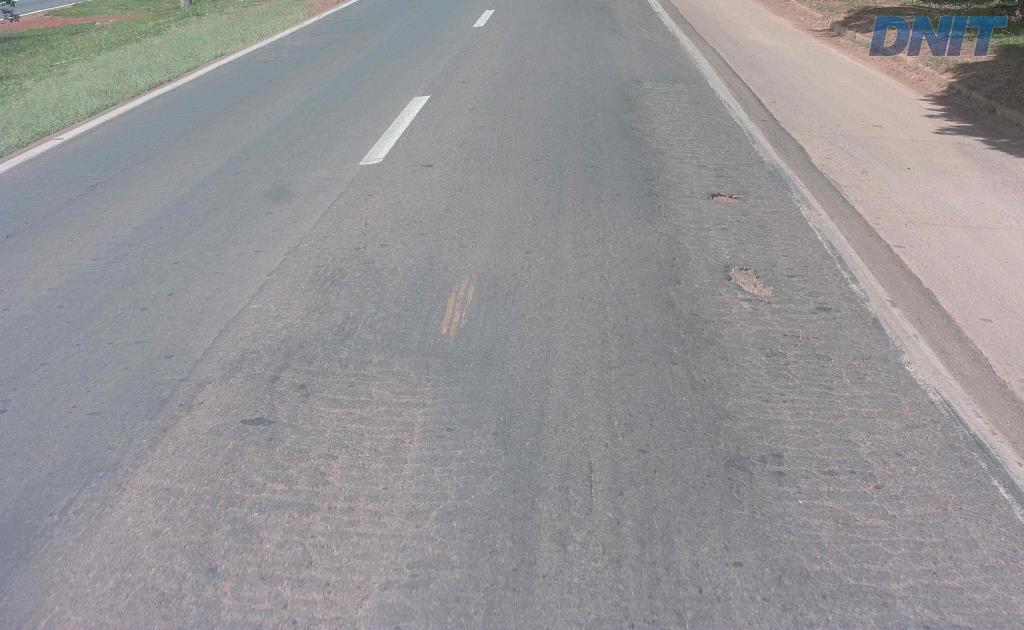pothole: (721, 263, 788, 300), (705, 186, 746, 209)
